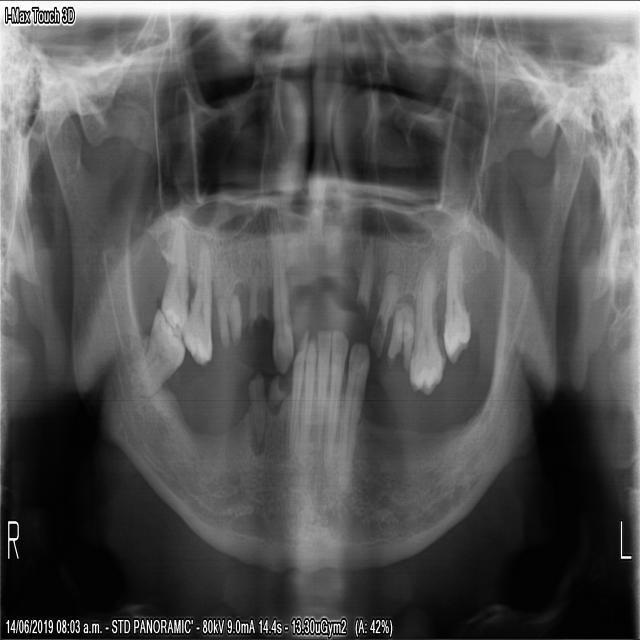LID: (321, 319, 349, 466), (313, 326, 331, 452)
LMU: (406, 255, 446, 399), (441, 235, 470, 366)
RCD: (336, 333, 371, 487), (248, 368, 265, 452)
RCU: (245, 212, 269, 330), (353, 227, 377, 315)
RID: (287, 327, 308, 449), (298, 338, 316, 443)
RIU: (264, 205, 293, 371)
RMD: (125, 299, 186, 404)
RMU: (184, 238, 215, 371), (213, 235, 243, 355), (161, 216, 190, 338), (368, 262, 401, 362), (385, 258, 415, 368)
